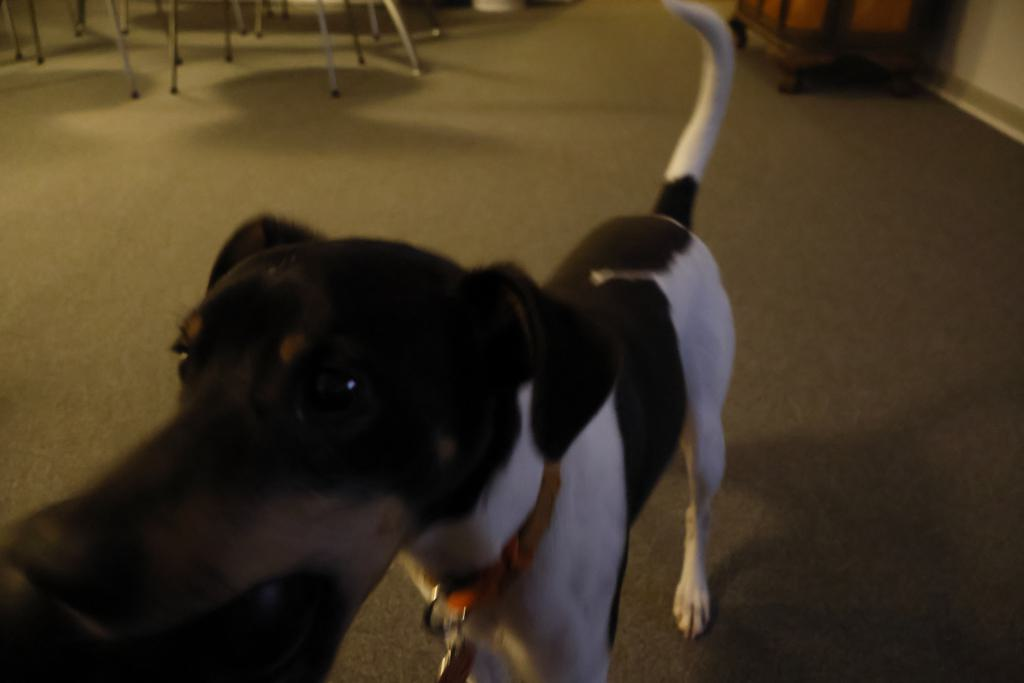Dog: (0, 0, 758, 683)
